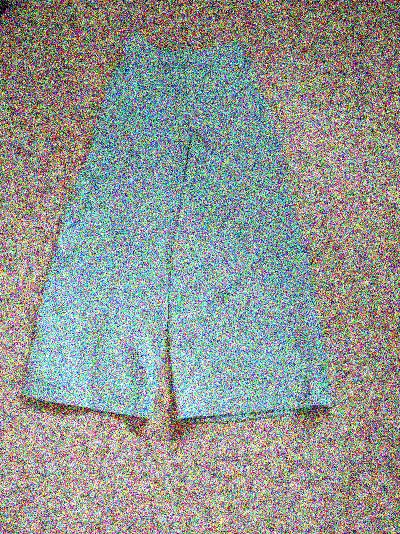Pants: (3, 19, 337, 425)
